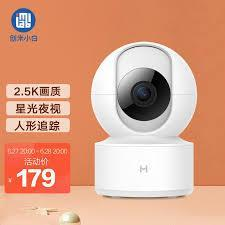maru: (77, 30, 201, 146)
